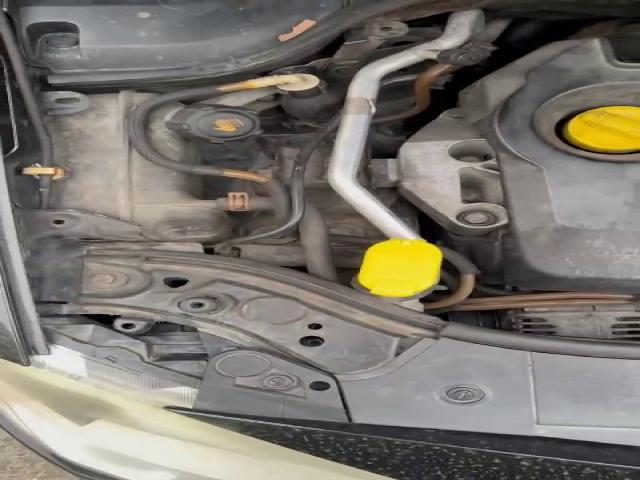antifreeze_tank: (44, 91, 232, 242), (150, 102, 261, 163)
